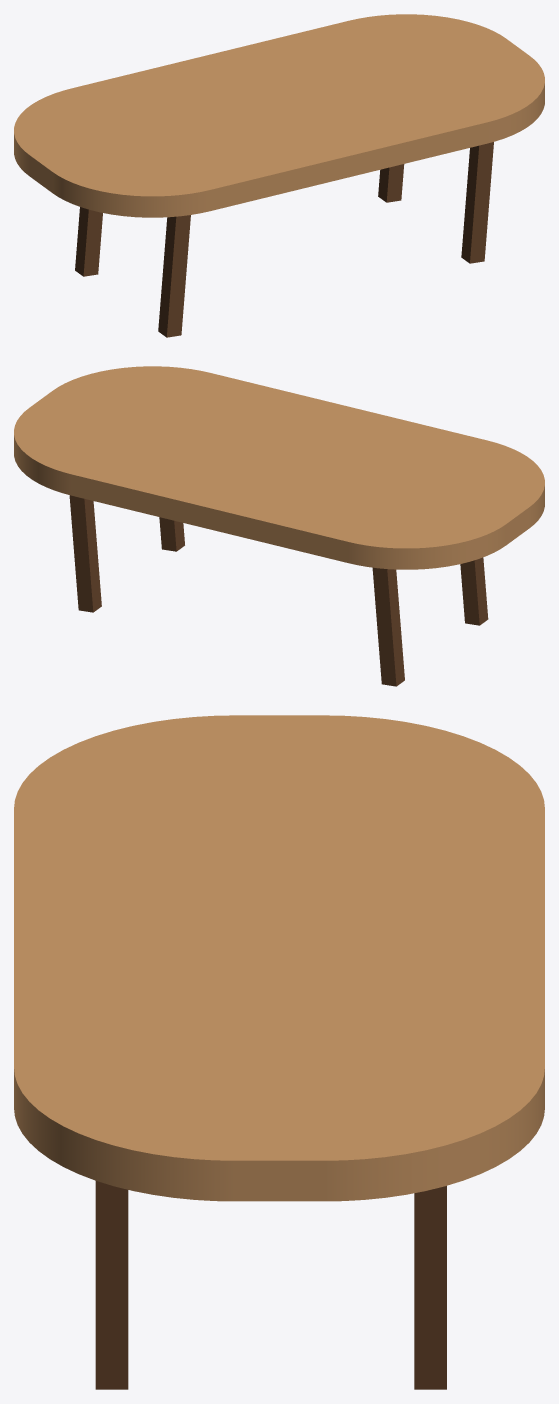
Rendered from living-coffee-table.gltf.
3 views of the same model, one above another, from view 1: azimuth 30°, elevation 25°; view 2: azimuth 150°, elevation 25°; view 3: azimuth 270°, elevation 25° (orthographic). The views are drawn at different scales.
Visible parts, largest first — view 1: Living oval edged coffee table top, Coffee table splayed leg (×4); view 2: Living oval edged coffee table top, Coffee table splayed leg (×4); view 3: Living oval edged coffee table top, Coffee table splayed leg (×2).
Part boxes in pixels (x1,y1,x2,y2): Living oval edged coffee table top: (14, 14, 544, 217); Coffee table splayed leg (×4): (75, 142, 493, 337); Living oval edged coffee table top: (14, 366, 544, 569); Coffee table splayed leg (×4): (69, 495, 488, 686); Living oval edged coffee table top: (14, 715, 544, 1201); Coffee table splayed leg (×2): (95, 1181, 446, 1389).
Bounding box in the file's own units: 1.29 × 0.4117 × 0.65.
